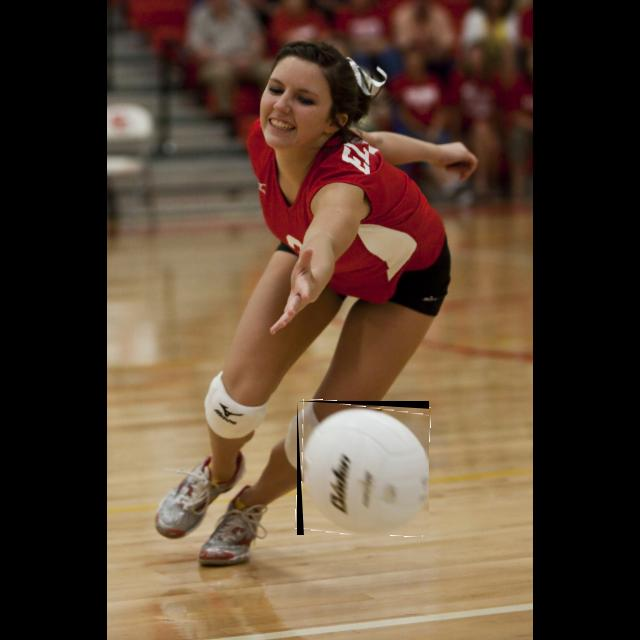Football: (297, 401, 429, 535)
